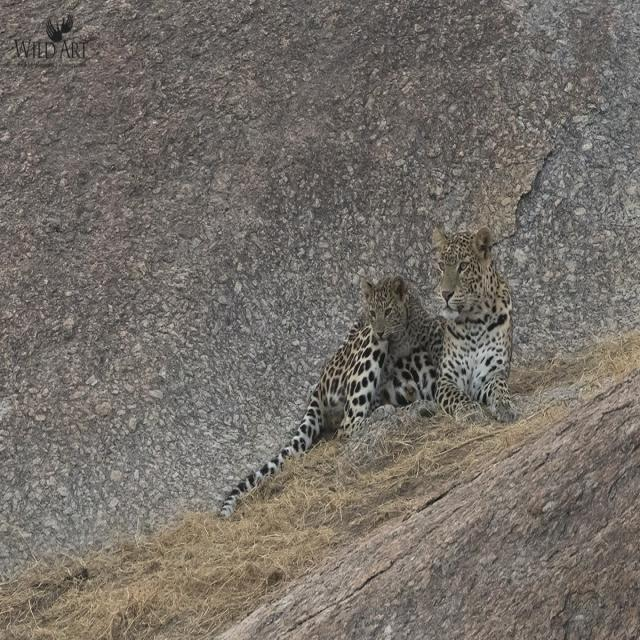Leopard: (294, 222, 512, 443), (362, 278, 444, 365)
